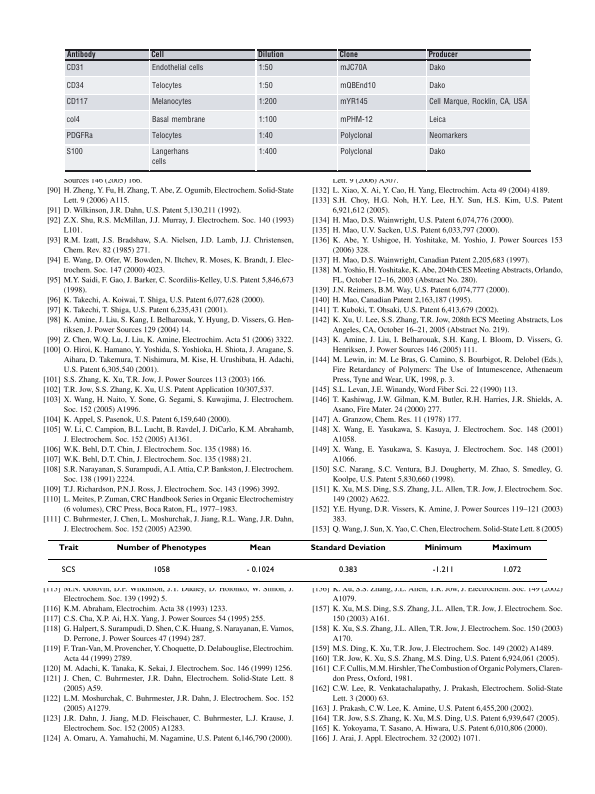borderless: (65, 48, 531, 170), (47, 538, 547, 581)
cell: (428, 97, 528, 107), (115, 543, 207, 552), (150, 147, 189, 167), (309, 543, 386, 552), (150, 115, 206, 124), (150, 63, 204, 72), (150, 97, 192, 107), (428, 131, 468, 141), (491, 543, 532, 552), (423, 543, 462, 552), (339, 131, 373, 141), (339, 147, 373, 157), (339, 81, 376, 90), (150, 131, 182, 141), (65, 50, 96, 60), (427, 50, 458, 60), (339, 115, 373, 124), (339, 97, 368, 107), (150, 81, 182, 90), (256, 50, 284, 60), (65, 131, 93, 141), (339, 63, 367, 72), (245, 565, 275, 573), (65, 97, 88, 107), (248, 543, 271, 552), (338, 50, 358, 60), (257, 97, 277, 107), (257, 147, 277, 157), (57, 543, 79, 552), (431, 565, 454, 573), (257, 115, 277, 124), (65, 147, 83, 157), (428, 147, 446, 157), (65, 63, 84, 72), (65, 81, 84, 90), (501, 565, 522, 573), (428, 63, 446, 72), (428, 81, 446, 90), (428, 115, 446, 124), (338, 565, 358, 573), (257, 131, 273, 141), (152, 565, 170, 573), (257, 63, 273, 72), (257, 81, 273, 90), (150, 50, 164, 60), (65, 115, 80, 124), (60, 565, 76, 573)
